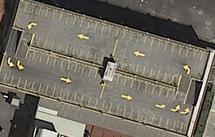parkingspot: (0, 70, 190, 137), (17, 0, 212, 64), (30, 32, 182, 89), (24, 47, 106, 82), (111, 71, 178, 102)
